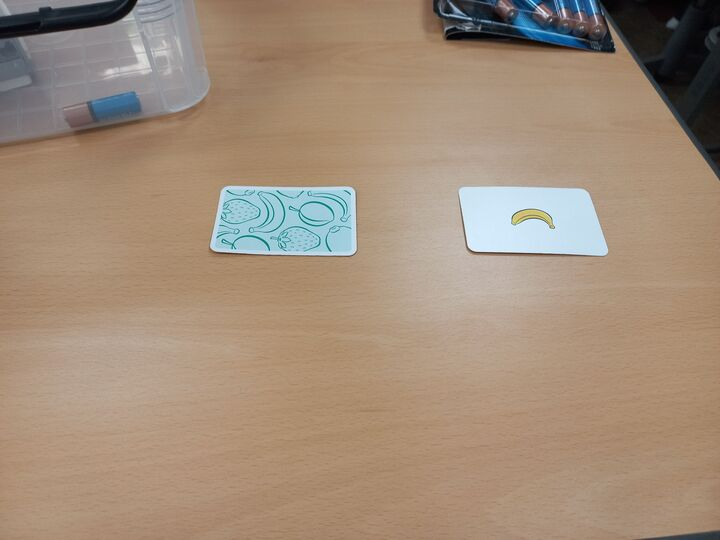banana1: (457, 184, 611, 261)
